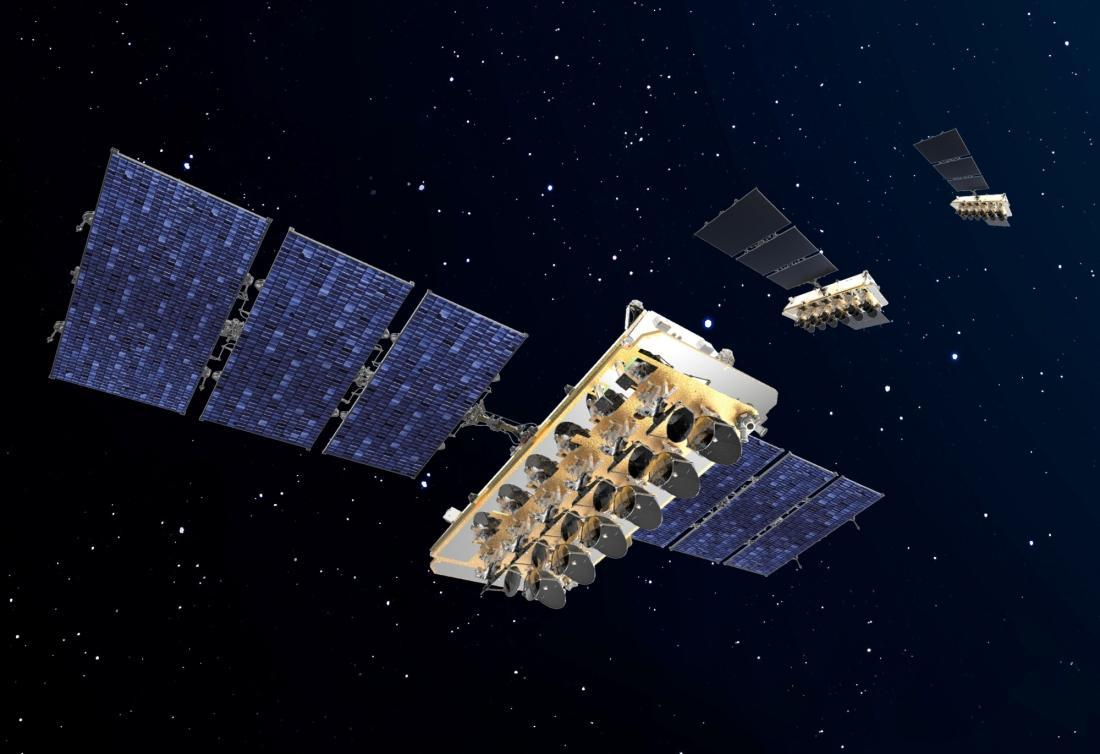antenna: (645, 448, 705, 505), (689, 410, 749, 466), (609, 482, 663, 534), (584, 509, 630, 561), (556, 536, 600, 588), (532, 566, 570, 613)
body: (416, 328, 762, 623), (774, 273, 889, 331), (941, 194, 1018, 218)
solar: (38, 150, 518, 485), (631, 434, 882, 578), (686, 189, 836, 292), (915, 125, 990, 196), (844, 308, 895, 338), (984, 213, 1014, 227)
thruster: (740, 423, 752, 447), (751, 423, 768, 438), (751, 412, 774, 422)
